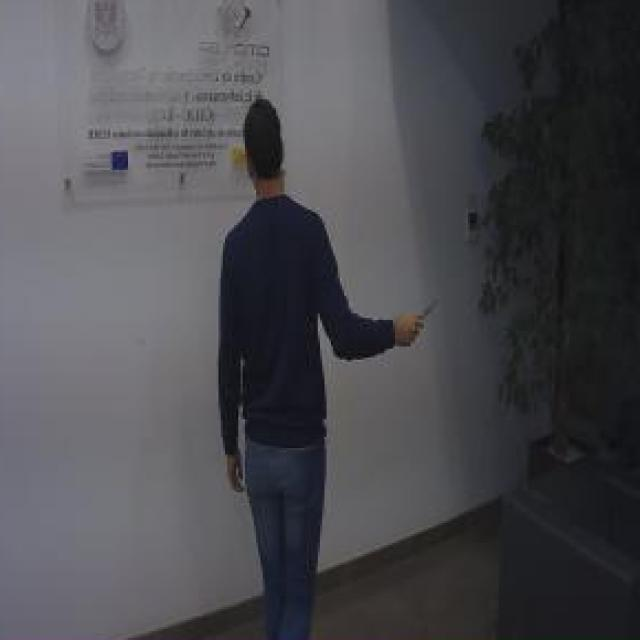knife: (408, 287, 442, 343)
